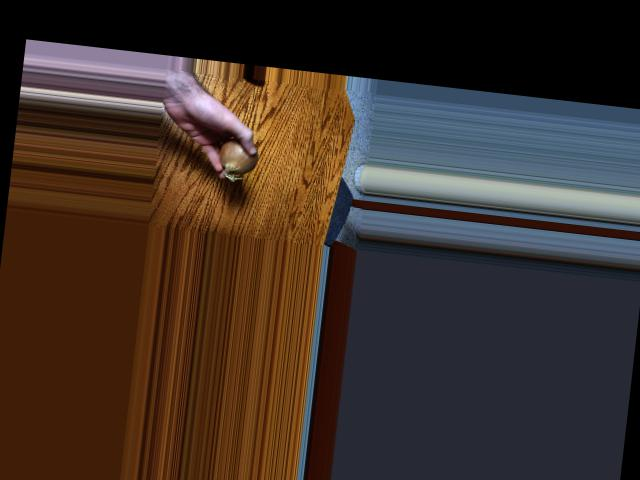onion: (219, 136, 260, 176)
